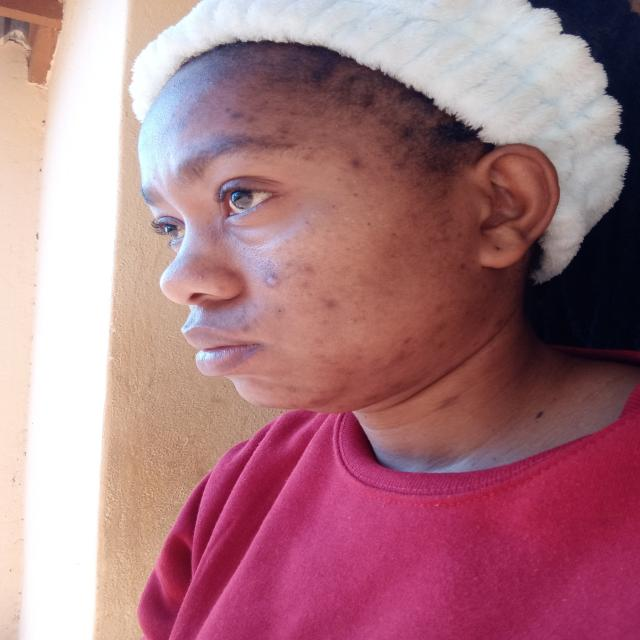Acne: (222, 105, 257, 125), (428, 324, 447, 339), (392, 351, 411, 366), (298, 264, 318, 275), (322, 297, 341, 308), (431, 302, 448, 314), (234, 322, 254, 332), (305, 398, 325, 407), (361, 394, 380, 403), (456, 260, 470, 272), (391, 379, 406, 390), (284, 384, 300, 394), (315, 318, 331, 328), (401, 333, 413, 346), (279, 126, 290, 140), (351, 157, 366, 167), (389, 161, 404, 171), (298, 280, 311, 291), (298, 154, 313, 163), (437, 338, 448, 350), (346, 317, 360, 325)
Englarged-Pores: (246, 255, 280, 287)
